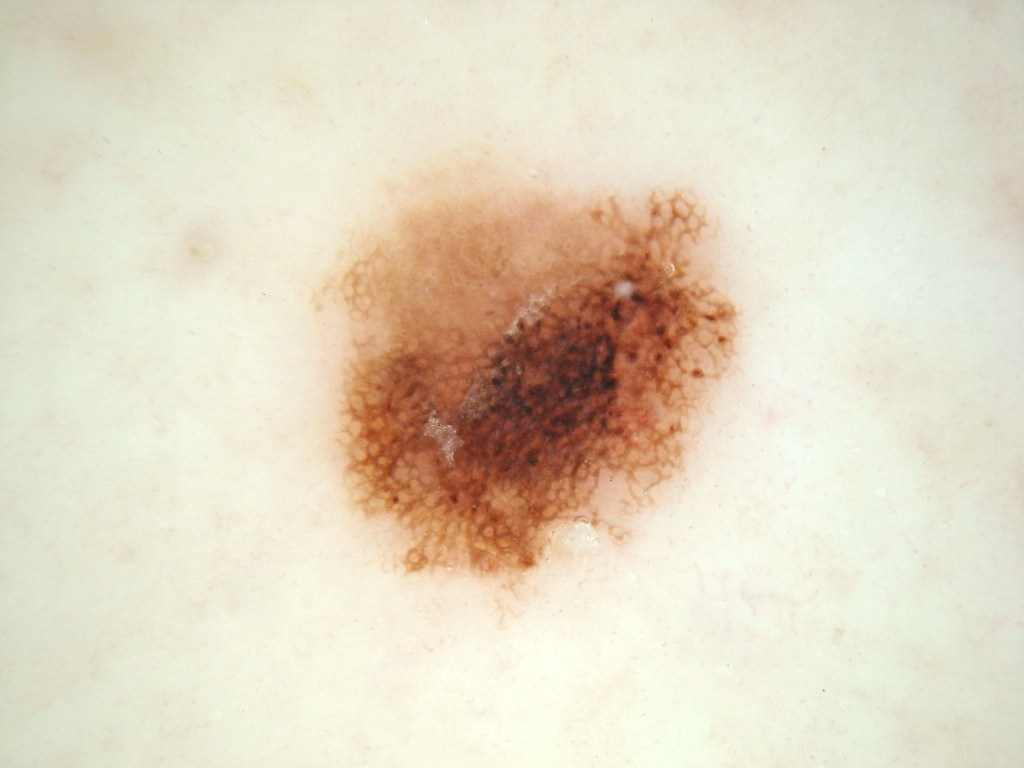Detected Lesion: (309, 180, 747, 593)
